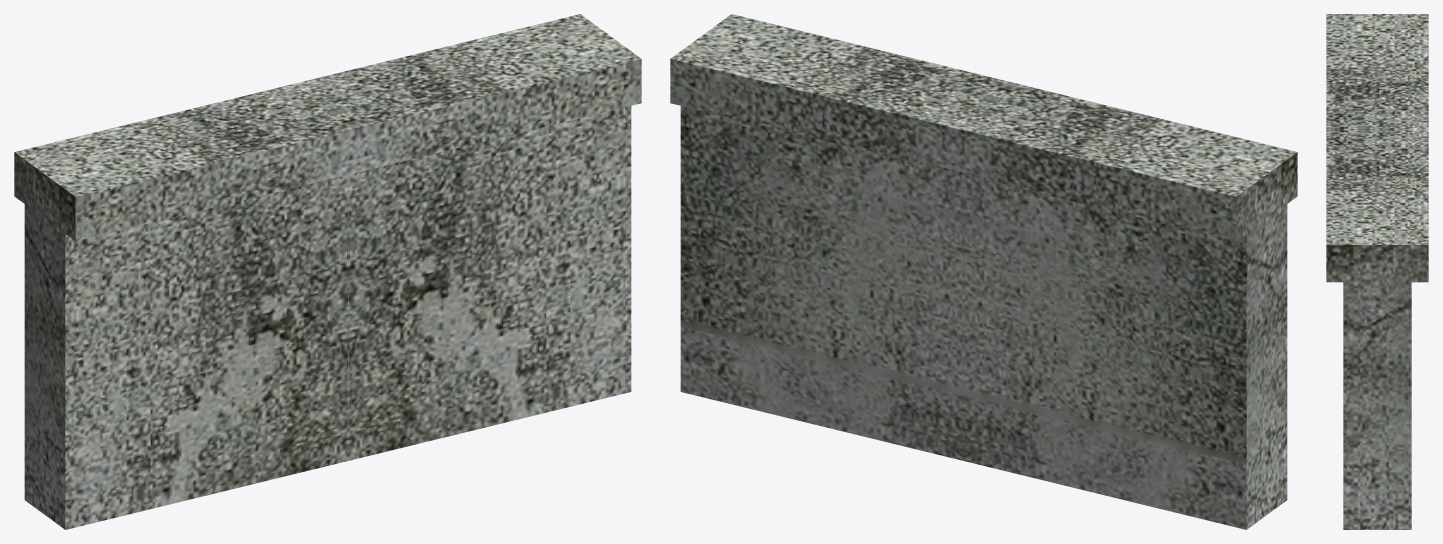
File: wall.obj
The picture shows the model from 3 angles, left to right: view 1: azimuth 30°, elevation 25°; view 2: azimuth 150°, elevation 25°; view 3: azimuth 270°, elevation 25°; orthographic projection. The views are drawn at different scales.
Parts seen in each view (by area): view 1: Cube; view 2: Cube; view 3: Cube.
Boxes of the visible parts, x1,y1,x2,y2 form: Cube: (14,14,641,529); Cube: (670,14,1297,529); Cube: (1326,14,1428,529).
Bounding box in the file's own units: 4 × 2.3 × 0.75.
1 material, 1 textured.
